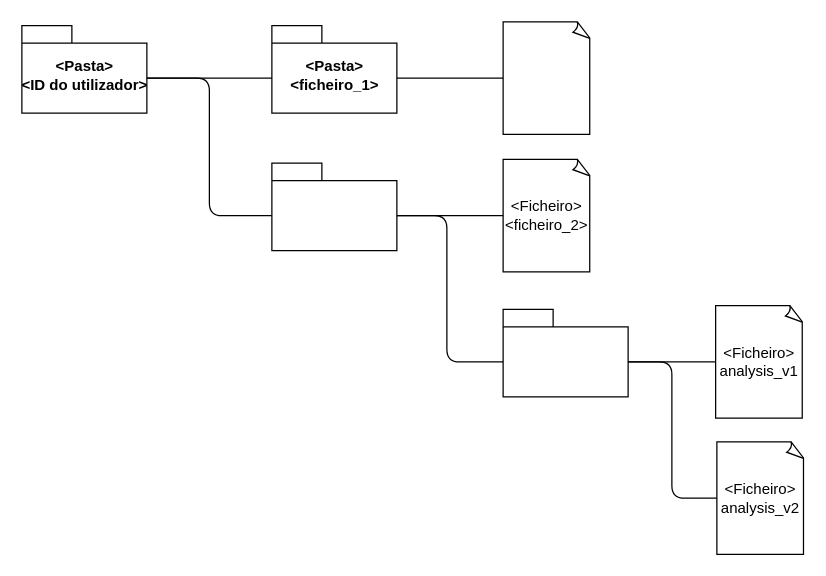
Image size: 826x576. Some labels were removed from this diagram. Here are the shapes that lost their labels. From the top down, the centre of each, then its label:
point 546,77: <Ficheiro> <ficheiro_1>
point 334,206: <Pasta> <ficheiro_2>
point 565,352: <Pasta> analysis
